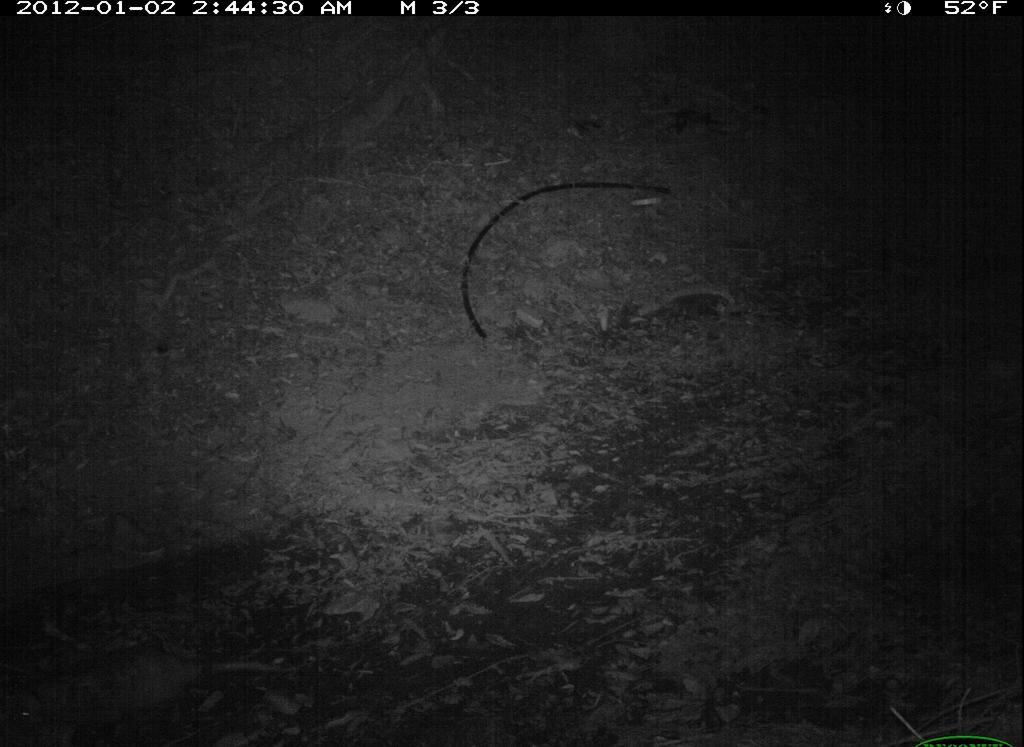opossum: (420, 178, 675, 351), (1, 638, 317, 742)
